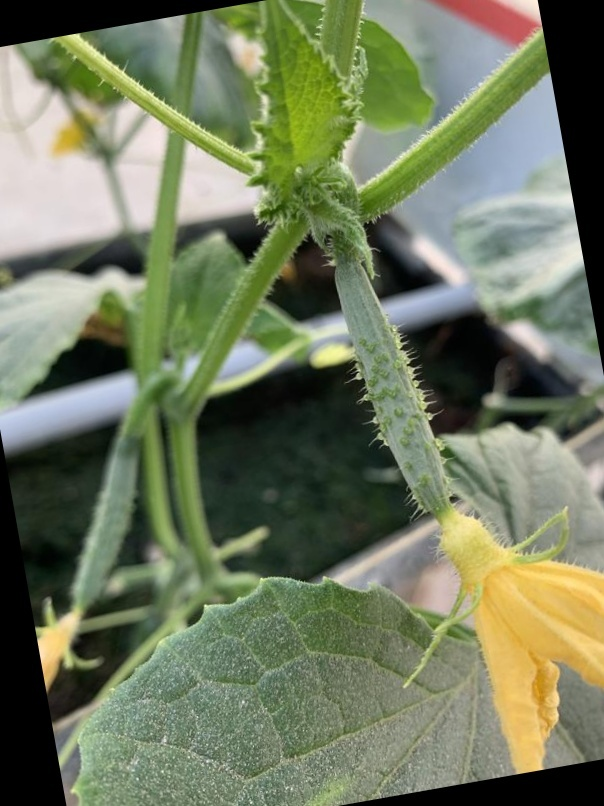bear: (300, 202, 604, 743)
